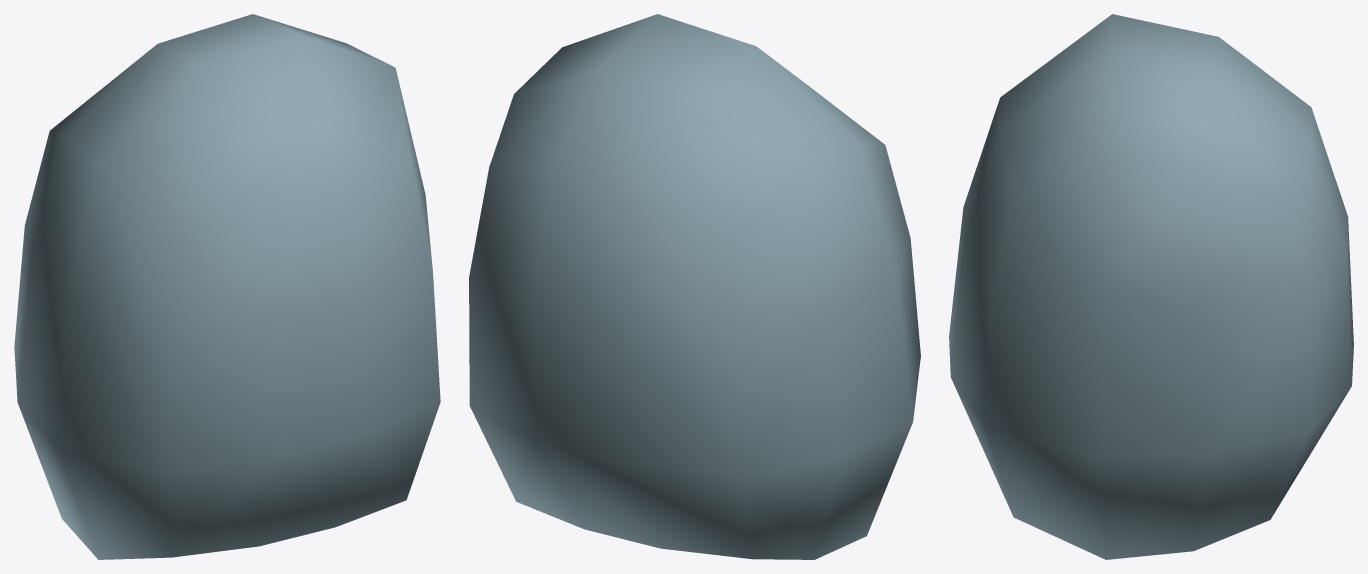
The model's file is Rock_A_04_LOD2.gltf.
3 views of the same model, side by side, from view 1: azimuth 30°, elevation 25°; view 2: azimuth 150°, elevation 25°; view 3: azimuth 270°, elevation 25° (orthographic).
Visible parts, largest first — view 1: Rock_A_04_LOD2_Cube.739; view 2: Rock_A_04_LOD2_Cube.739; view 3: Rock_A_04_LOD2_Cube.739.
Part boxes in pixels (x1,y1,x2,y2): Rock_A_04_LOD2_Cube.739: (14,14,440,559); Rock_A_04_LOD2_Cube.739: (469,14,920,559); Rock_A_04_LOD2_Cube.739: (949,14,1353,559).
Size of the model in its own units: 2.84 by 3.48 by 2.68.
1 material, 1 textured.
